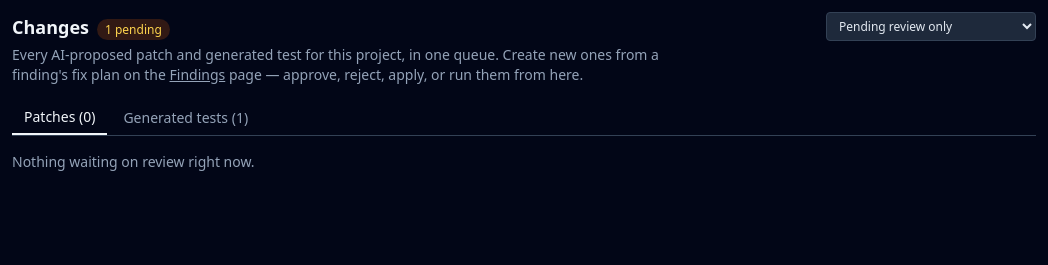
ChangesPage › switches to the generated tests tab and lists pending tests
What coordinates should you click on to do the following:
click the button "Generated tests (1)"
I would click on:
 (186, 118)
Its box is [111, 101, 260, 135].
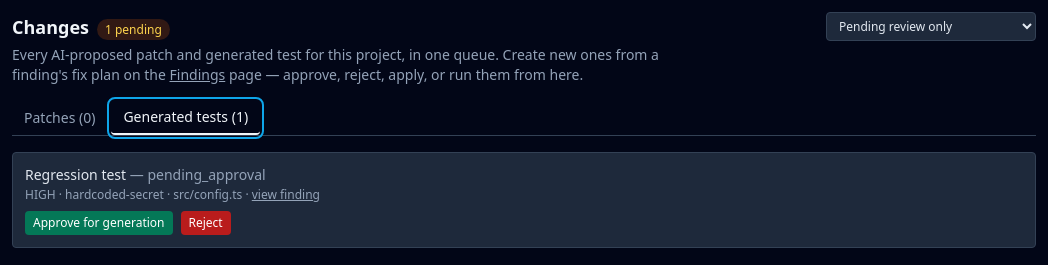
Now the text "Regression test — pending_approval" is shown, box [25, 165, 266, 184]
